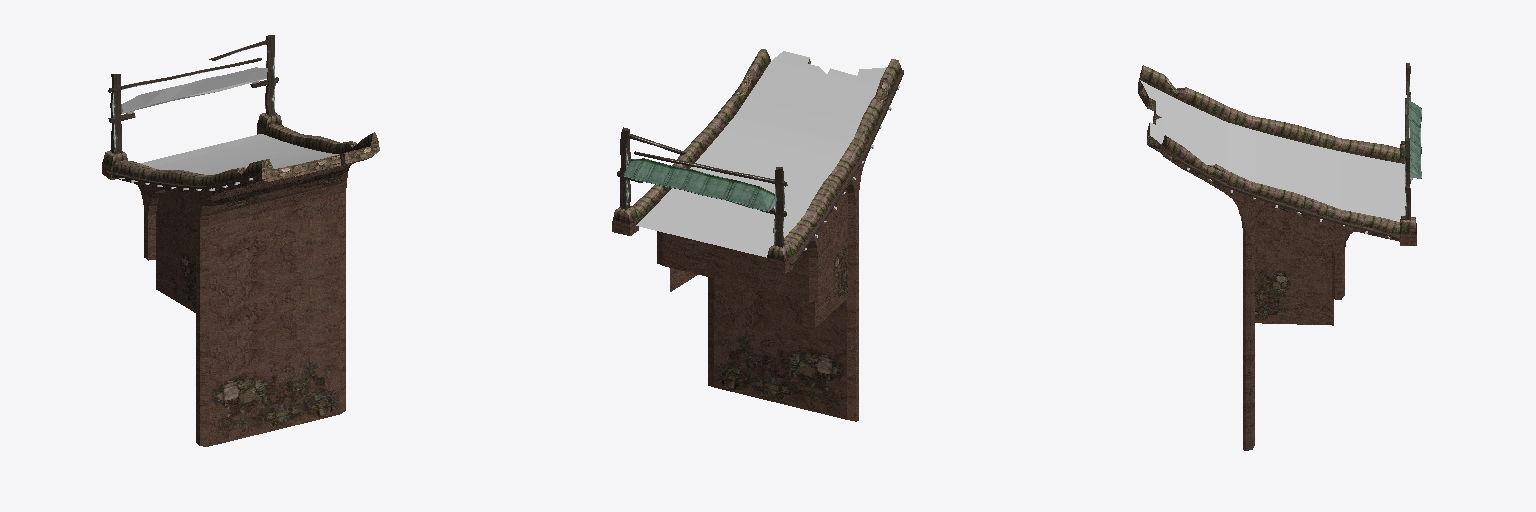
The picture shows the model from 3 angles: view 1: azimuth 30°, elevation 25°; view 2: azimuth 150°, elevation 25°; view 3: azimuth 270°, elevation 25°; orthographic projection.
Parts seen in each view (by area): view 1: Node 0; view 2: Node 0; view 3: Node 0.
Part boxes in pixels (x1,y1,x2,y2): Node 0: (102,35,379,446); Node 0: (612,49,903,421); Node 0: (1138,63,1421,450).
Size of the model in its own units: 17.94 by 31.37 by 25.14.
5 materials, 4 textured.